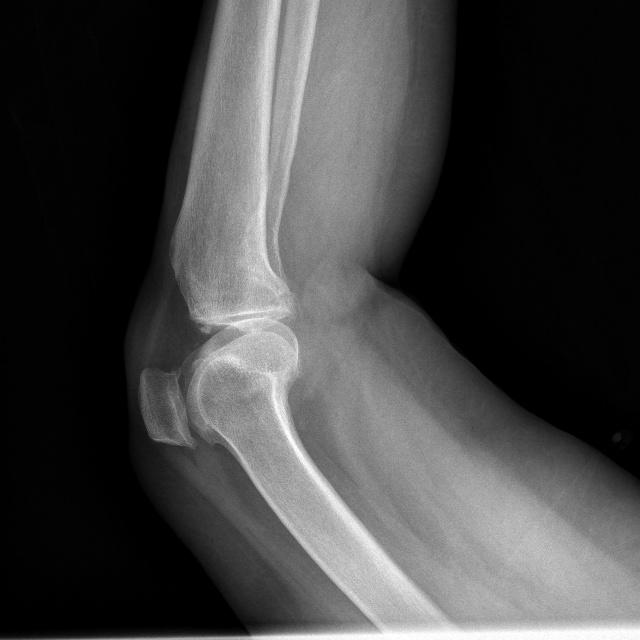Knee: (138, 240, 304, 455)
